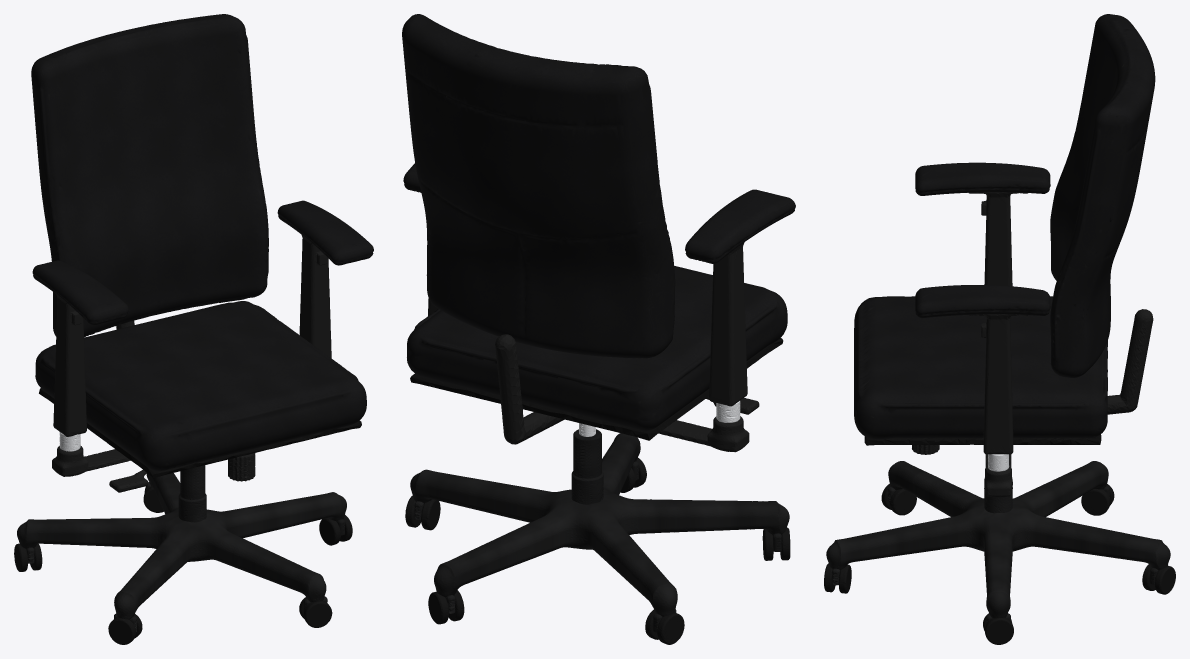
The model's file is cadeira_detalhada.glb.
3 renders of one model, left to right at view 1: azimuth 30°, elevation 25°; view 2: azimuth 150°, elevation 25°; view 3: azimuth 270°, elevation 25°, orthographic. The views are drawn at different scales.
Parts seen in each view (by area): view 1: encosto, assento, base_estrela, poste_braco_-1, apoio_braco_-1, apoio_braco_1, poste_braco_1, tecido_inferior, cilindro_telescopico, encaixe_braco_-1, rodas_5, rodas_1 (+5 smaller); view 2: encosto, assento, base_estrela, poste_braco_-1, apoio_braco_-1, espinha_encosto, tecido_inferior, cilindro_telescopico, encaixe_braco_-1, rodas_4, rodas_3, rodas_2 (+2 smaller); view 3: assento, encosto, base_estrela, poste_braco_1, apoio_braco_-1, apoio_braco_1, poste_braco_-1, espinha_encosto, tecido_inferior, encaixe_braco_1, rodas_3, rodas_2 (+3 smaller).
Part boxes in pixels (<box>): encosto: <box>31,14,268,337</box>; assento: <box>35,301,366,470</box>; base_estrela: <box>17,473,346,619</box>; poste_braco_-1: <box>53,294,86,436</box>; apoio_braco_-1: <box>32,260,128,325</box>; apoio_braco_1: <box>277,200,373,265</box>; poste_braco_1: <box>299,235,331,358</box>; tecido_inferior: <box>39,388,361,477</box>; cilindro_telescopico: <box>178,465,206,522</box>; encaixe_braco_-1: <box>52,446,88,476</box>; rodas_5: <box>108,614,142,644</box>; rodas_1: <box>299,597,332,627</box>; encosto: <box>402,14,675,358</box>; assento: <box>407,266,787,430</box>; base_estrela: <box>410,433,789,616</box>; poste_braco_-1: <box>709,242,747,406</box>; apoio_braco_-1: <box>685,189,795,263</box>; espinha_encosto: <box>495,334,564,444</box>; tecido_inferior: <box>410,338,783,440</box>; cilindro_telescopico: <box>571,429,603,504</box>; encaixe_braco_-1: <box>707,416,749,452</box>; rodas_4: <box>645,609,684,644</box>; rodas_3: <box>428,590,464,624</box>; rodas_2: <box>405,495,440,530</box>; assento: <box>854,296,1107,439</box>; encosto: <box>1050,14,1155,377</box>; base_estrela: <box>826,461,1170,618</box>; poste_braco_1: <box>969,314,1027,454</box>; apoio_braco_-1: <box>915,162,1050,195</box>; apoio_braco_1: <box>915,285,1050,318</box>; poste_braco_-1: <box>968,192,1027,286</box>; espinha_encosto: <box>1107,309,1153,414</box>; tecido_inferior: <box>864,434,1101,445</box>; encaixe_braco_1: <box>984,465,1012,497</box>; rodas_3: <box>1142,564,1175,594</box>; rodas_2: <box>983,613,1013,644</box>.
Bounding box in the file's own units: 0.6753 × 1.08 × 0.6772.
8 materials, 3 textured.
